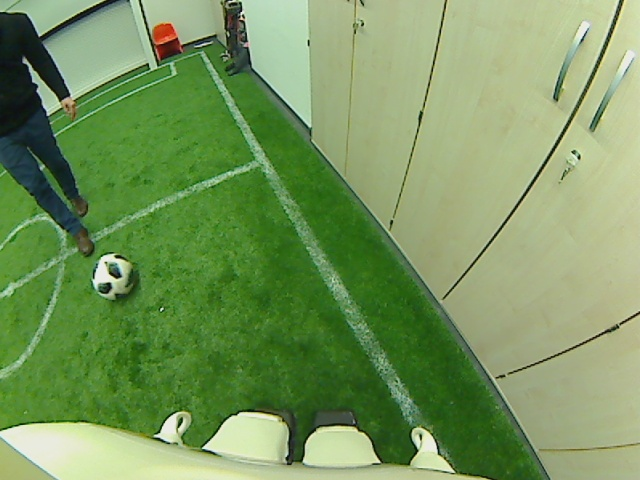ball: (89, 253, 137, 300)
